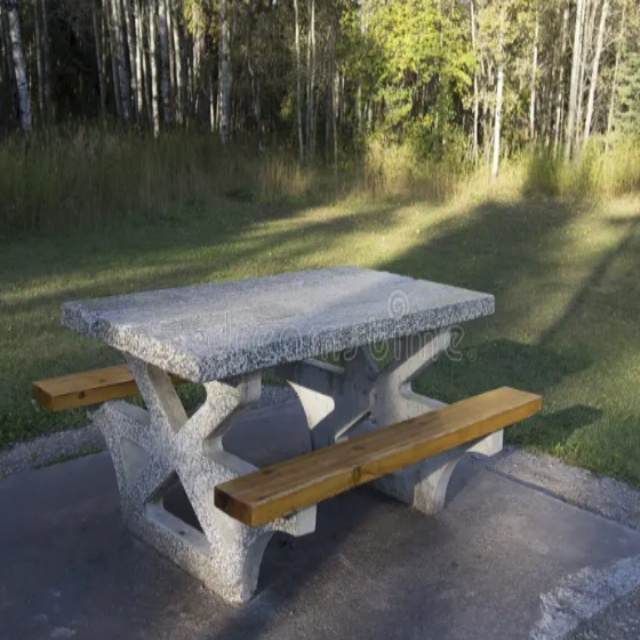obstacle: (23, 255, 550, 599)
